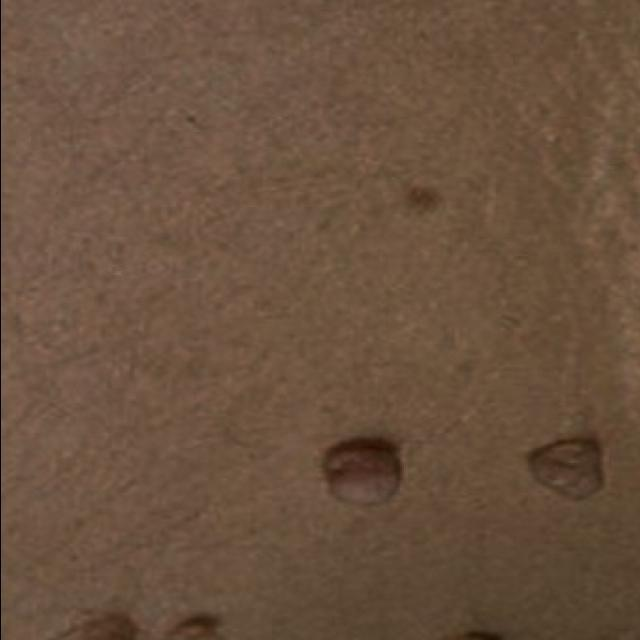wart: (292, 418, 429, 522), (514, 407, 623, 528), (49, 595, 241, 640), (379, 613, 526, 640)
